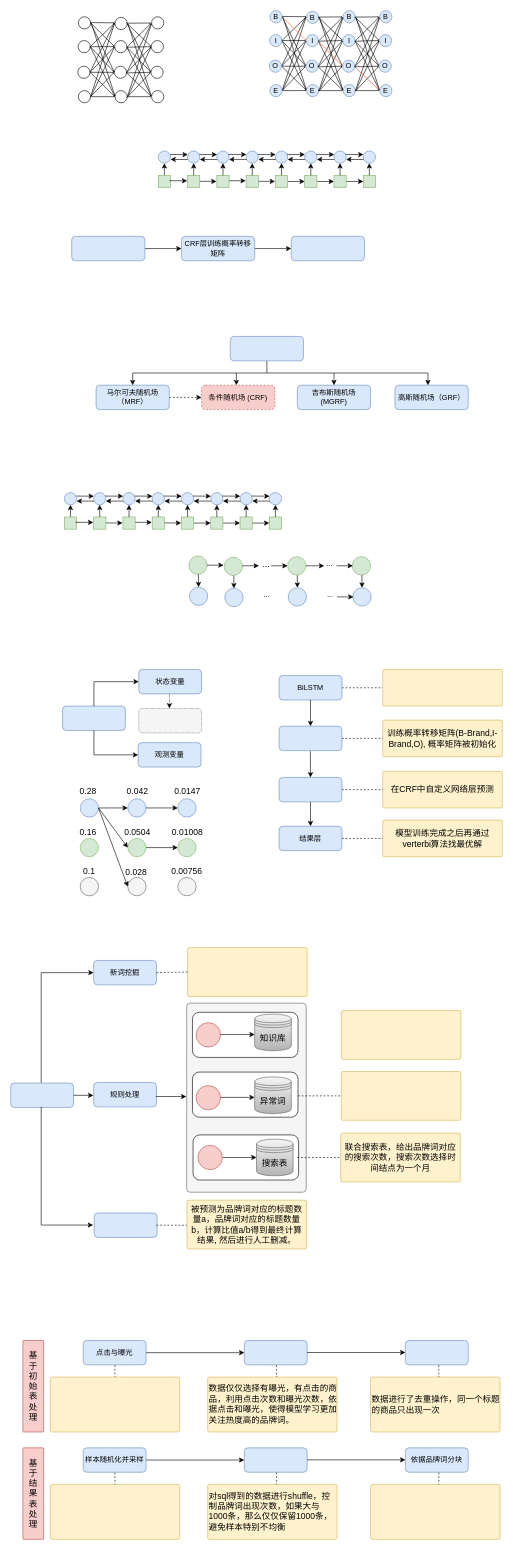
The diagram is 513 pixels wide and 1550 high, and some of its shapes have lost their labels. Each missing label, with the centre of its shape:
CRF: the point at 310,738
人工过滤: the point at 125,1224
信息产出: the point at 42,1094
去重复: the point at 436,1352
去除知识库中的品牌词，以及通过规则方法得到的品牌词: the point at 401,1034
增加关注度: the point at 275,1352
对sql得到的数据shuffle，并随机抽取20%的数据，避免单个品牌出现次数过多，在数量上远大于其它品牌词。: the point at 115,1511
差集: the point at 208,1034
序列信学习: the point at 108,248
数据查询使用了商品全量表以外的两张表，点击行为表和曝光次数表，目的是为了统计不同商品的点击次数和曝光次数 。: the point at 115,1404
样本均衡化: the point at 275,1459
模型变量: the point at 93,717
模型输出结果产出品牌词: the point at 247,971
统计上步操作中的品牌词，并按照品牌词分块，具体指一种品牌词下包含多个商品标题: the point at 435,1511
联合: the point at 209,1157
过滤: the point at 208,1097
过滤出现频次较少的标题和明显不规范的品牌词 不规范品牌词，例如"2xlb"，"32525"等: the point at 401,1095
通过Verterbi算法找最优解: the point at 327,248
通过双向LSTM得到邻域信息: the point at 442,687
随机场（RF）: the point at 266,348
隐藏变量: the point at 170,720
预测层: the point at 310,789
